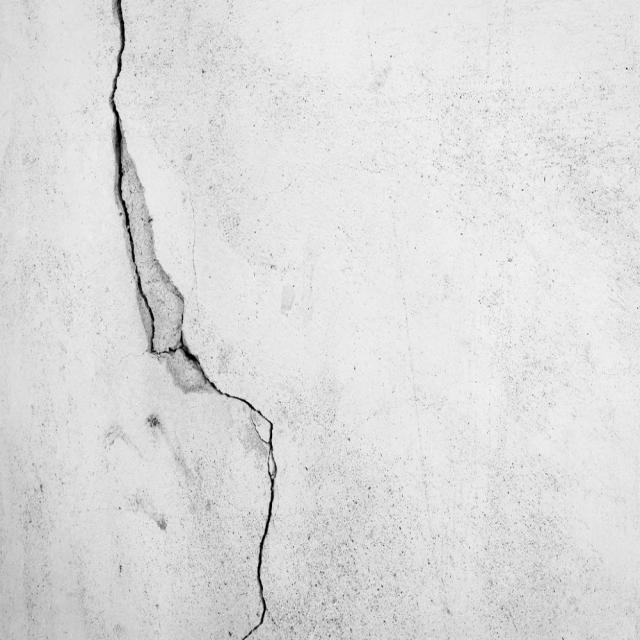Wall_Cracks: (80, 0, 323, 636)
